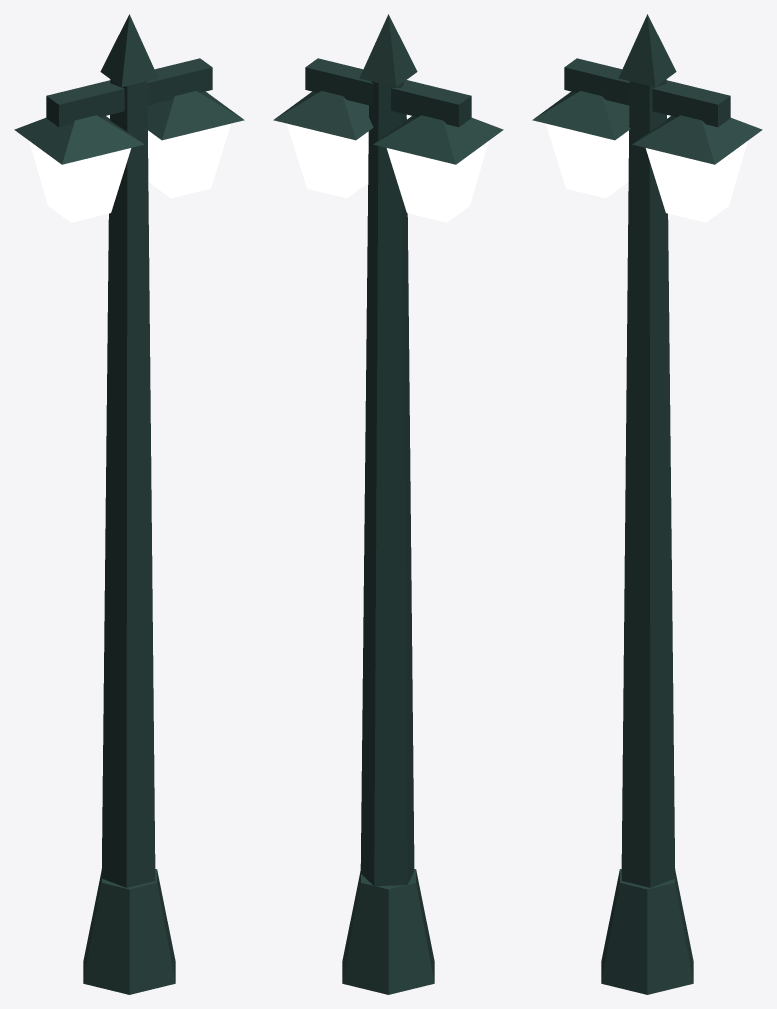
The model's file is prop_lamp.glb.
3 views of the same model, side by side, from view 1: azimuth 30°, elevation 25°; view 2: azimuth 150°, elevation 25°; view 3: azimuth 330°, elevation 25° (orthographic).
Parts seen in each view (by area): view 1: prop_lamp; view 2: prop_lamp; view 3: prop_lamp.
Part boxes in pixels (x1,y1,x2,y2): prop_lamp: (14, 14, 244, 994); prop_lamp: (273, 14, 503, 994); prop_lamp: (532, 14, 762, 994).
Bounding box in the file's own units: 1.19 × 5.96 × 0.54.
